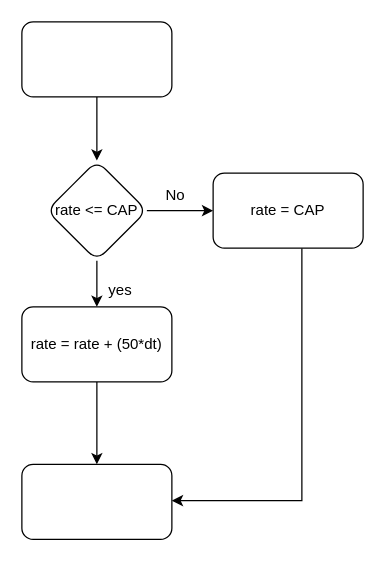
Some shapes in this 385 by 561 pixel diagram are drawn without their labels. Each missing label, with the centre of its shape:
"End" belongs at pixel 96 501.
"start" belongs at pixel 96 59.
